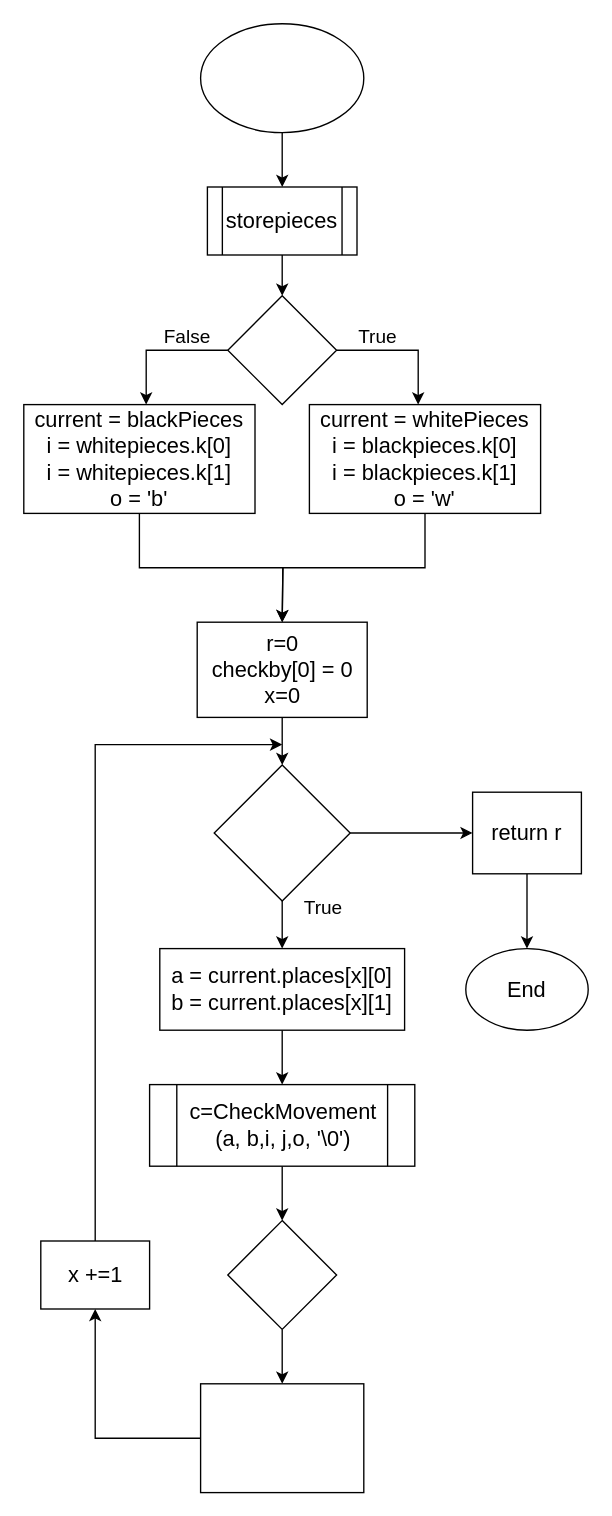
Some shapes in this 612 by 1516 pixel diagram are drawn without their labels. Each missing label, with the box of its shape:
c = 1: (226, 1219, 337, 1329)
checked (p): (199, 22, 364, 133)
p = 'b': (226, 294, 337, 405)
r = 1 checkby[0] +=1 checkby[1] = a checkby[2] = b: (199, 1382, 364, 1493)
x< NO. pieces of current: (213, 764, 350, 901)
